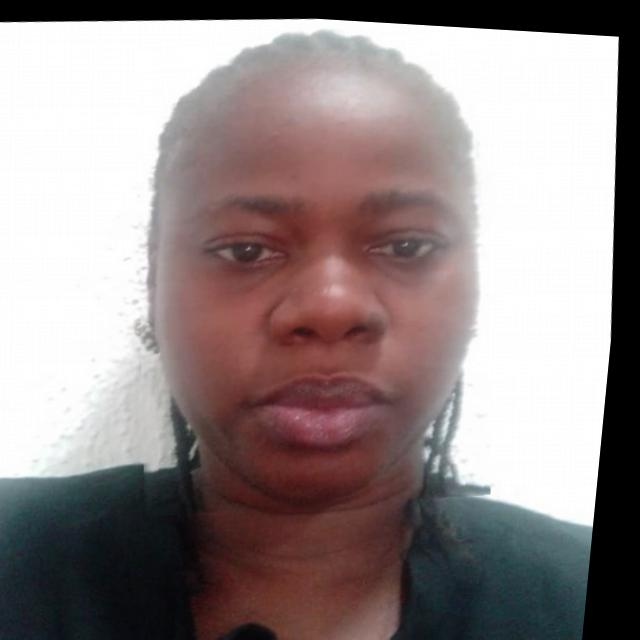sad: (103, 7, 529, 527)
